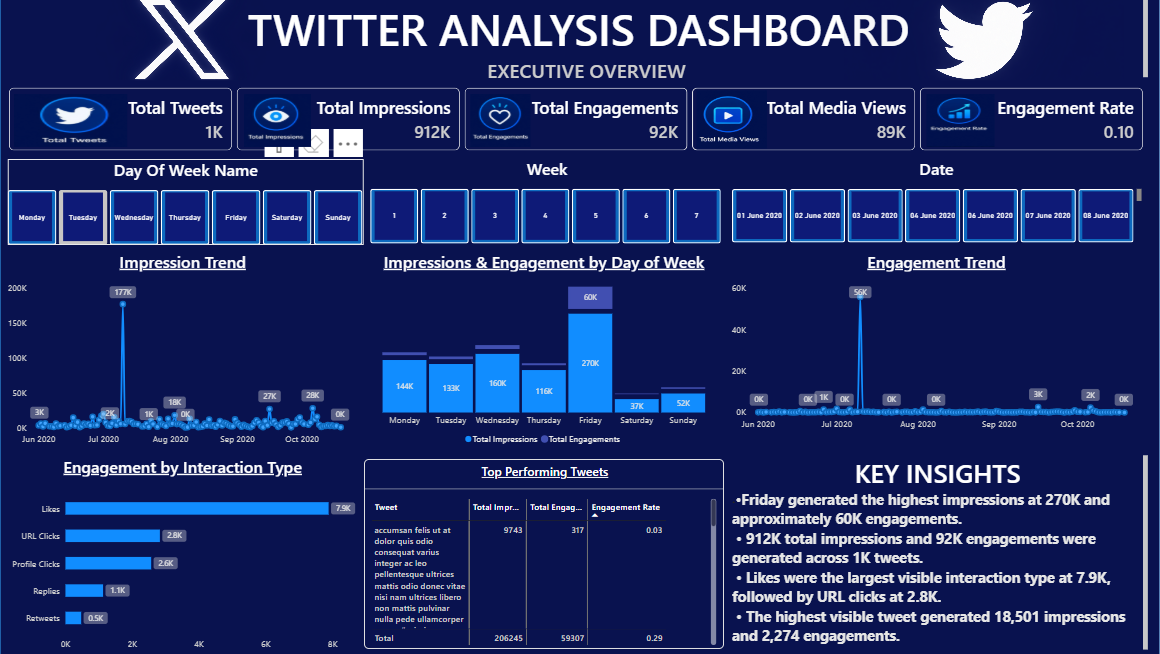

The page's visual inventory and layout, read from the dashboard file:
{"tool":"powerbi","page":{"name":"Dashboard 1","canvas":[1920,1080],"ordinal":0},"visuals":[{"type":"shape","box":[10.9,0,1909.2,1080.4],"z":0},{"type":"textbox","box":[32.6,0,1867.6,133.9],"z":1000},{"type":"cardVisual","fields":{"Data":["Twitter Measure Table.Total Tweets","Twitter Measure Table.Total Impressions","Twitter Measure Table.Total Engagements","Twitter Measure Table.Total Media Views","Twitter Measure Table.Engagement Rate"]},"box":[25.3,146.6,1867.6,103.2],"z":2000},{"type":"image","box":[166.5,0,298.6,133.9],"z":3000},{"type":"image","box":[1398.9,0,461.5,133.9],"z":4000},{"type":"advancedSlicerVisual","title":"Day Of Week Name","fields":{"Values":["twitter_analysis_cleaned.day_of_week"]},"box":[22.6,263.5,586.6,142],"z":5000},{"type":"image","box":[32.6,155.6,186.4,86.9],"z":6000},{"type":"image","box":[410.8,155.6,110.4,86.9],"z":7000},{"type":"image","box":[783.6,155.6,99.5,86.9],"z":8000},{"type":"image","box":[1156.4,150.2,115.8,95.9],"z":9000},{"type":"image","box":[1534.6,155.6,112.2,86.9],"z":10000},{"type":"lineChart","title":"Impression Trend","fields":{"Y":["Twitter Measure Table.Total Impressions"],"Category":["twitter_analysis_cleaned.date.Variation.Date Hierarchy.Year","twitter_analysis_cleaned.date.Variation.Date Hierarchy.Month","twitter_analysis_cleaned.date.Variation.Date Hierarchy.Day"]},"box":[22.6,413.7,576.3,325.2],"z":11000},{"type":"advancedSlicerVisual","title":"Week","fields":{"Values":["twitter_analysis_cleaned.DayOfWeekNumber"]},"box":[619.6,261.4,582.5,142],"z":12000},{"type":"advancedSlicerVisual","title":"Date","fields":{"Values":["twitter_analysis_cleaned.date"]},"box":[1214.4,261.4,675.1,140],"z":13000},{"type":"tableEx","title":"Top Performing Tweets","fields":{"Values":["twitter_analysis_cleaned.Tweet","Twitter Measure Table.Total Impressions","Twitter Measure Table.Total Engagements","Twitter Measure Table.Engagement Rate"]},"box":[609.3,757.5,592.8,312.9],"z":14000},{"type":"clusteredBarChart","title":"Engagement by Interaction Type","fields":{"Category":["Engagement Type.Engagement Type"],"Y":["Engagement Type.Engagement Count"]},"box":[22.6,751.3,576.3,325.2],"z":15000},{"type":"lineChart","title":"Engagement Trend","fields":{"Category":["twitter_analysis_cleaned.date.Variation.Date Hierarchy.Year","twitter_analysis_cleaned.date.Variation.Date Hierarchy.Month","twitter_analysis_cleaned.date.Variation.Date Hierarchy.Day"],"Y":["Twitter Measure Table.Total Engagements"]},"box":[1214.4,413.7,675.1,300.5],"z":16000},{"type":"columnChart","title":"Impressions & Engagement by Day of Week","fields":{"Category":["twitter_analysis_cleaned.day_of_week"],"Y":["Twitter Measure Table.Total Impressions","Twitter Measure Table.Total Engagements"]},"box":[609.3,413.7,592.8,325.2],"z":17000},{"type":"textbox","box":[1214.4,751.3,685.4,325.2],"z":18000}]}

Visuals, with their boxes in screenshot pixels (x1, y1, x2, y2), scaled from the page's 1920x1080 canvas onto the 1160x654 screenshot:
shape: <box>7,0,1159,653</box>
textbox: <box>20,0,1148,81</box>
cardVisual - Twitter Measure Table.Total Tweets x Twitter Measure Table.Total Impressions: <box>15,89,1144,151</box>
image: <box>101,0,281,81</box>
image: <box>845,0,1124,81</box>
"Day Of Week Name" advancedSlicerVisual: <box>14,160,368,246</box>
image: <box>20,94,132,147</box>
image: <box>248,94,315,147</box>
image: <box>473,94,534,147</box>
image: <box>699,91,769,149</box>
image: <box>927,94,995,147</box>
"Impression Trend" lineChart: <box>14,251,362,447</box>
"Week" advancedSlicerVisual: <box>374,158,726,244</box>
"Date" advancedSlicerVisual: <box>734,158,1142,243</box>
"Top Performing Tweets" tableEx: <box>368,459,726,648</box>
"Engagement by Interaction Type" clusteredBarChart: <box>14,455,362,652</box>
"Engagement Trend" lineChart: <box>734,251,1142,432</box>
"Impressions & Engagement by Day of Week" columnChart: <box>368,251,726,447</box>
textbox: <box>734,455,1148,652</box>
